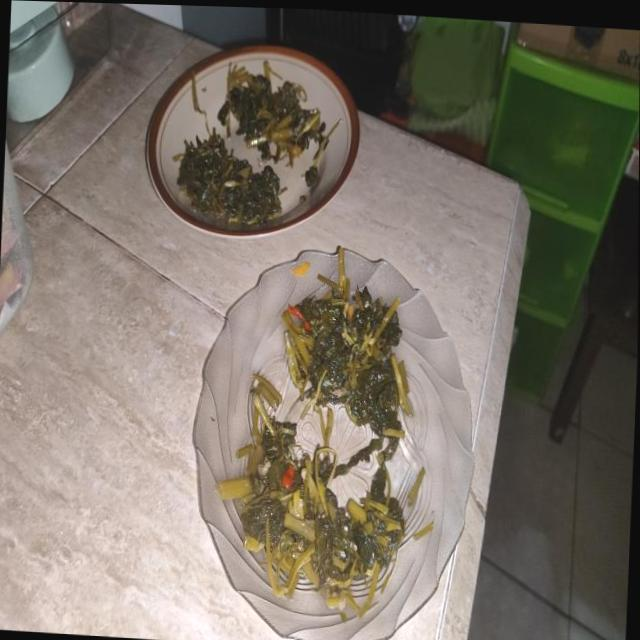tumis_kangkung: (223, 394, 404, 616), (282, 274, 411, 437), (217, 61, 325, 167), (173, 128, 281, 230)
